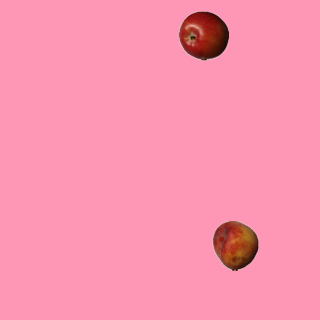Apple Braeburn: (178, 10, 228, 60)
Peach: (210, 220, 260, 270)
